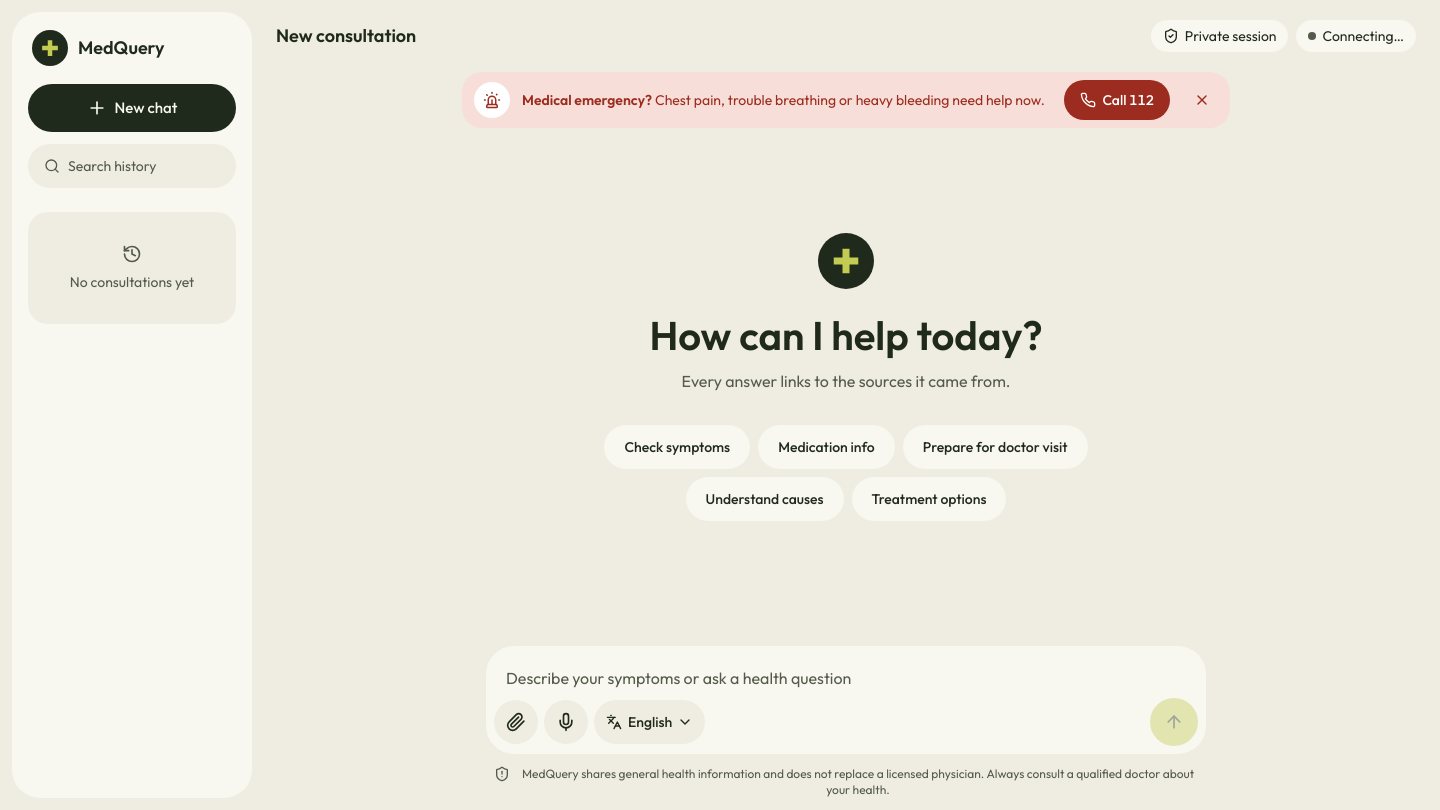
a server error offers retry, and retry recovers
The width and height of the screenshot is (1440, 810).
In the text box named "Your medical question": (846, 676) [494,654,1198,698], type "What is the retry case?"
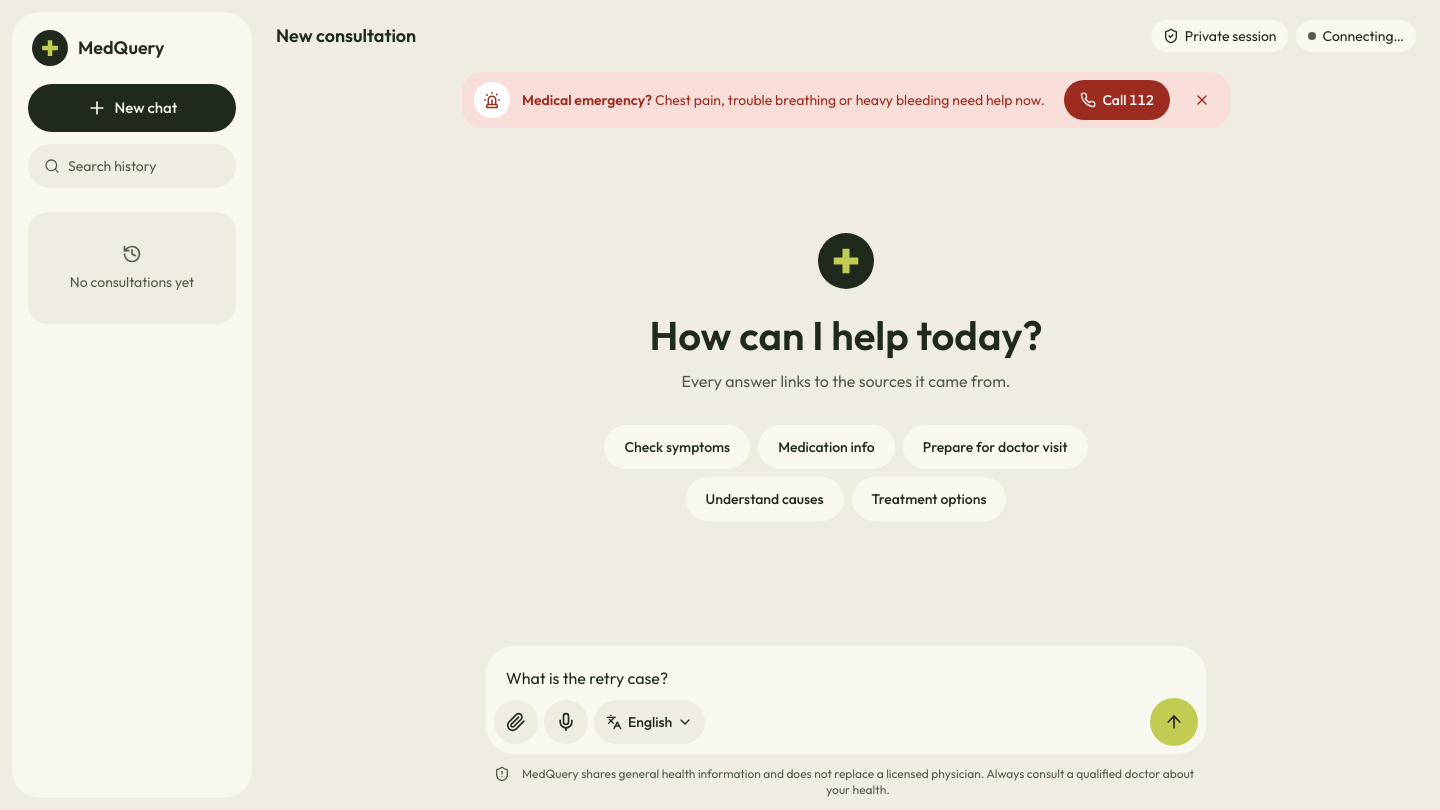
Submit the form named "Your medical question", box [486,646,1206,754]
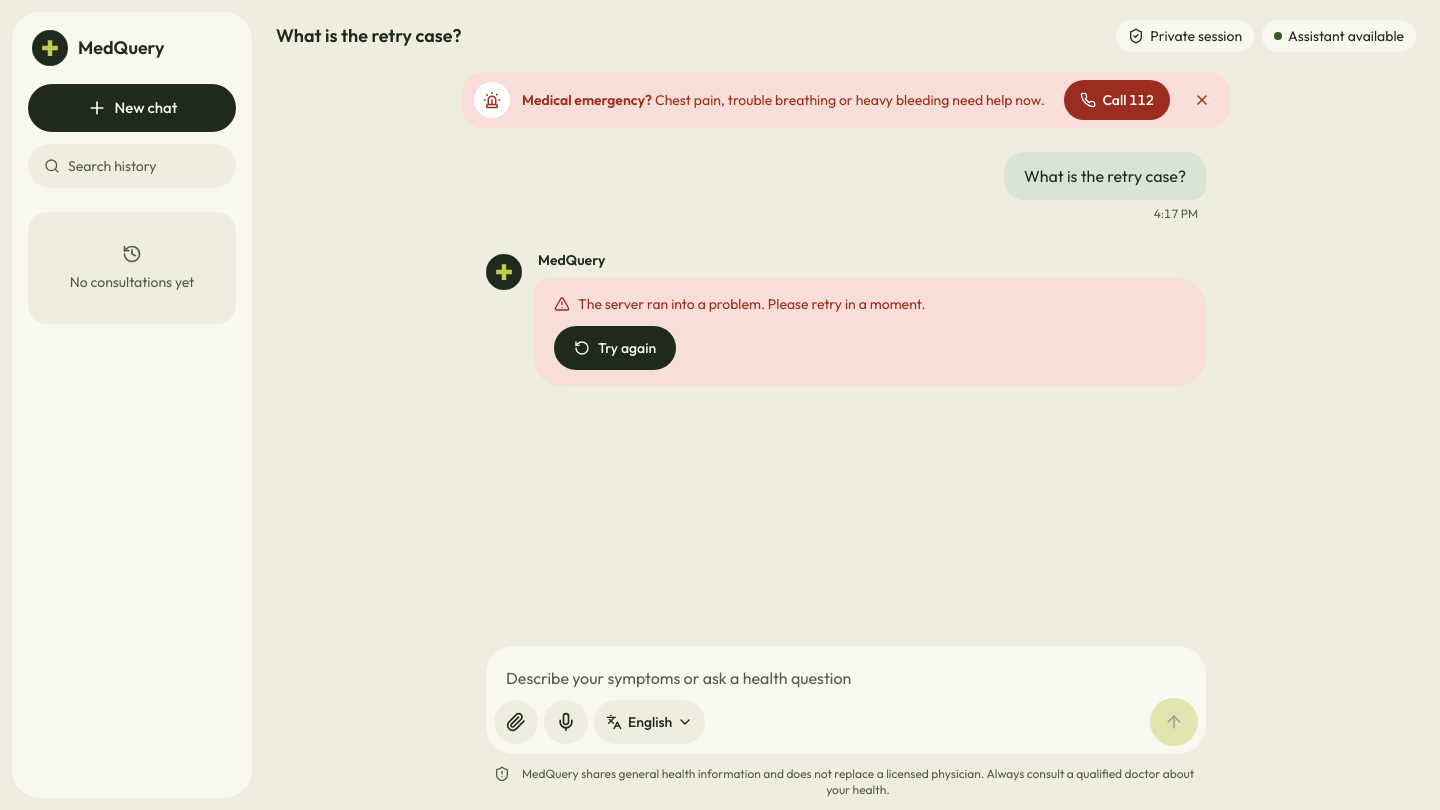
Now the text "The server ran into a problem. Please retry in a moment." is shown, box [578,294,926,314]
Now the text with test id "error-text" shows "server ran into a problem", box [578,295,926,313]
Click the button "Try again": click(615, 348) [554,326,676,370]
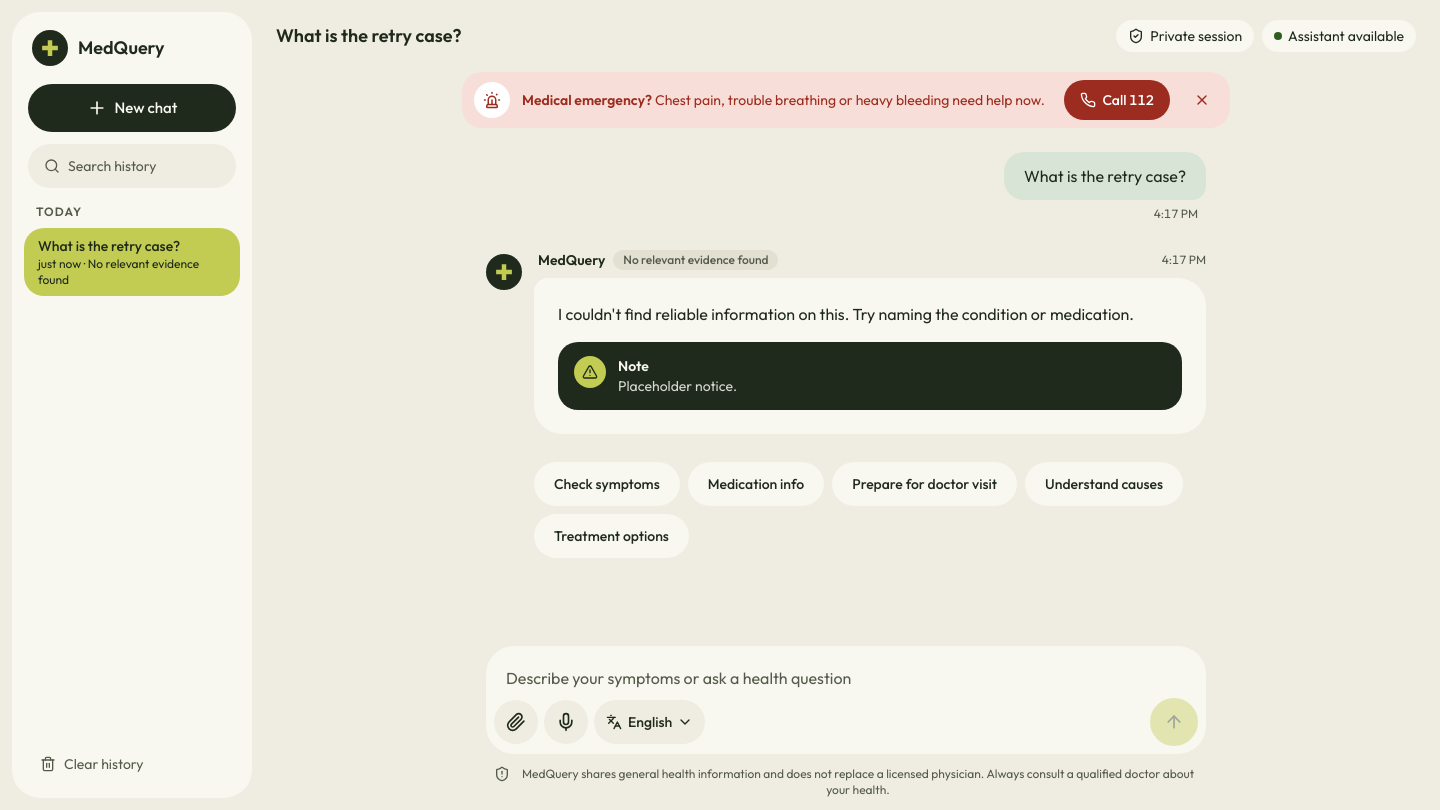
Now the text "No relevant evidence found" is shown, box [613,250,778,270]
